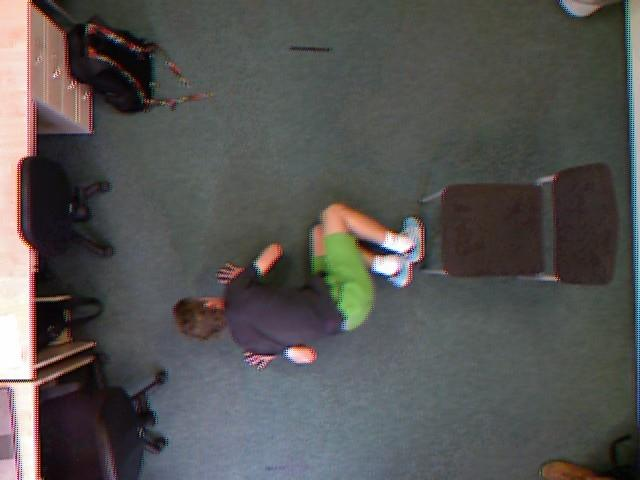fallen: (173, 201, 420, 370)
